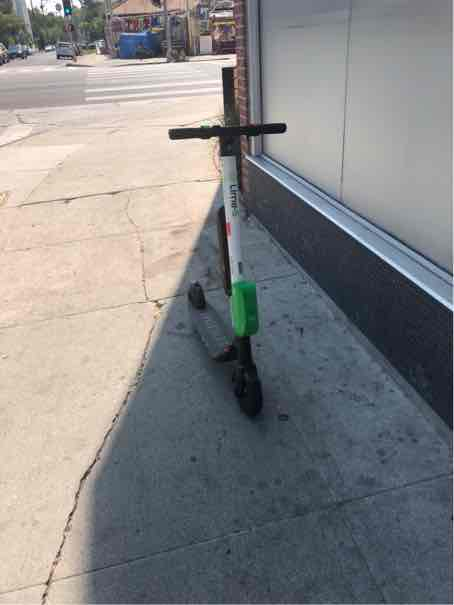scooter: (156, 114, 278, 435)
